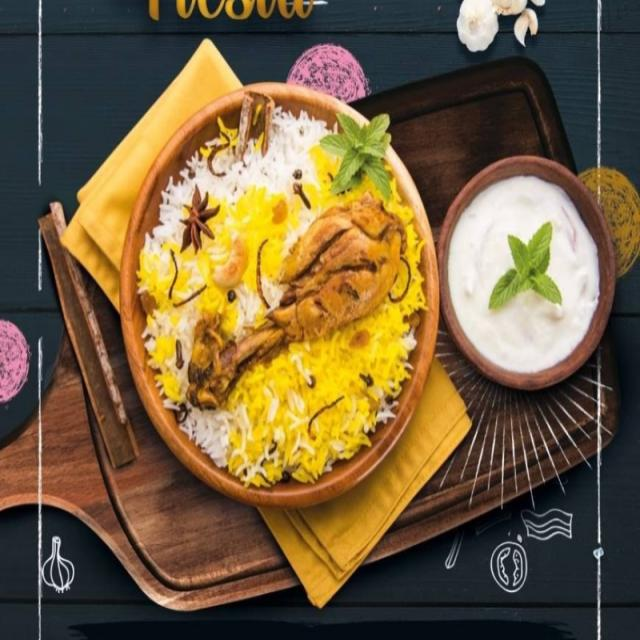Biryani: (131, 99, 428, 505)
